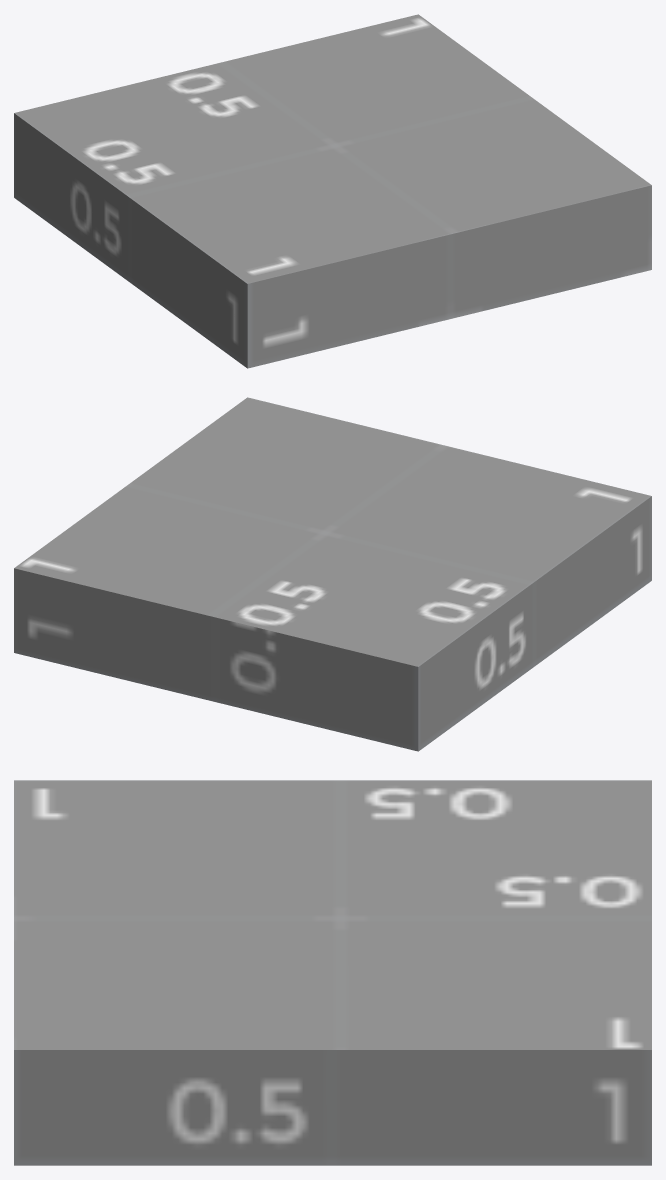
The picture shows the model from 3 angles, top to bottom: view 1: azimuth 30°, elevation 25°; view 2: azimuth 150°, elevation 25°; view 3: azimuth 270°, elevation 25°; orthographic projection. The views are drawn at different scales.
Parts seen in each view (by area): view 1: Cube_1_2; view 2: Cube_1_2; view 3: Cube_1_2.
Boxes of the visible parts, <box> form: Cube_1_2: <box>14,14,651,368</box>; Cube_1_2: <box>14,397,651,751</box>; Cube_1_2: <box>14,780,651,1165</box>.
Bounding box in the file's own units: 1 × 0.2 × 1.
